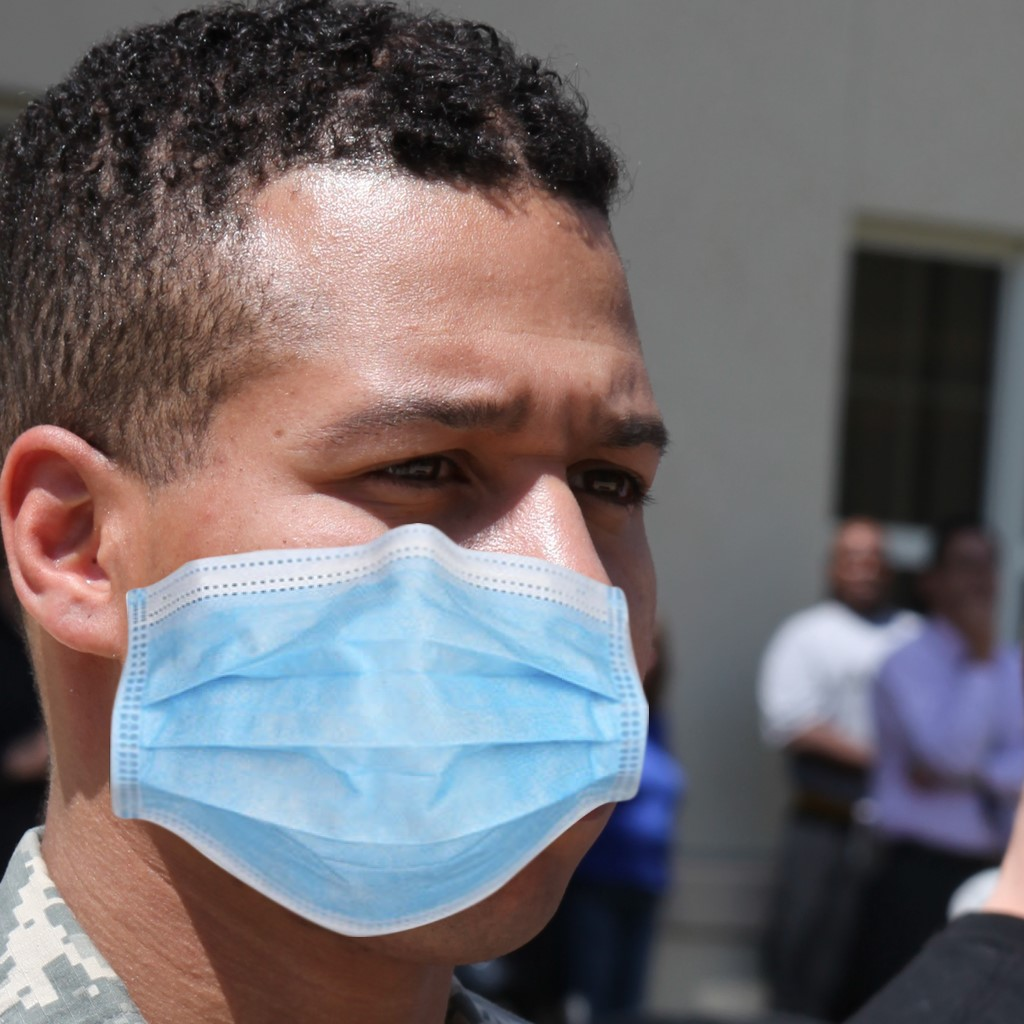con_mascara: (73, 152, 680, 983)
